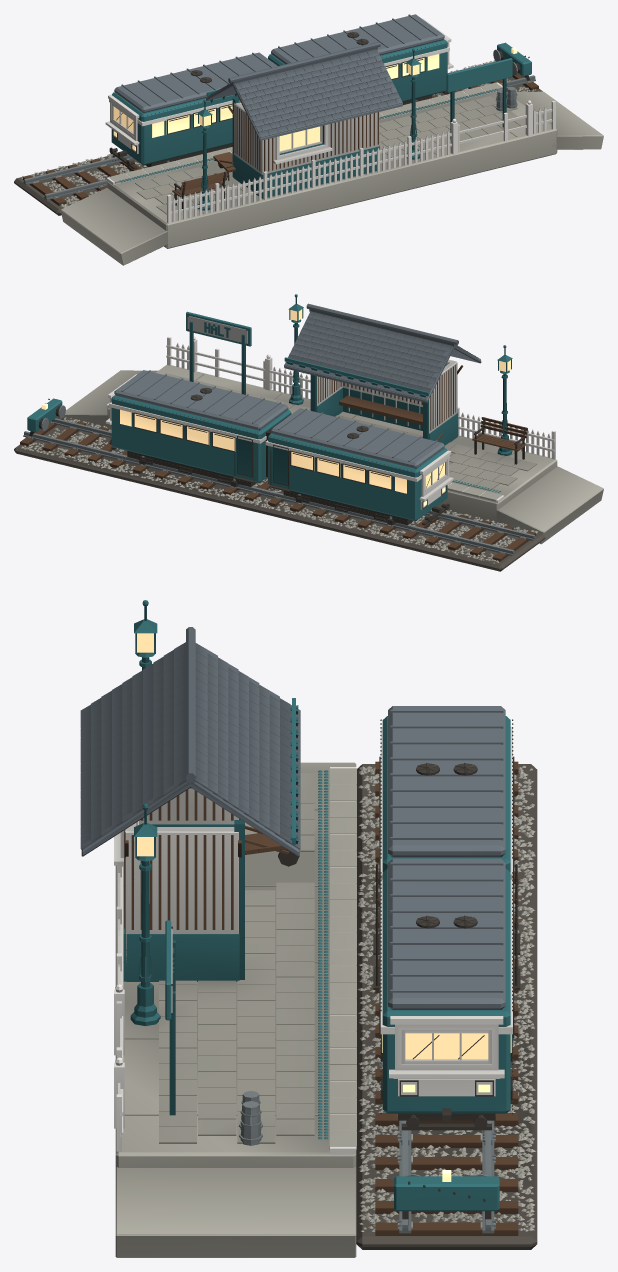
The model's file is village-halt-near.glb.
The picture shows the model from 3 angles, top to bottom: view 1: azimuth 30°, elevation 25°; view 2: azimuth 150°, elevation 25°; view 3: azimuth 270°, elevation 25°; orthographic projection. The views are drawn at different scales.
Parts seen in each view (by area): view 1: Halt1Near, Halt2Near; view 2: Halt1Near, Halt2Near; view 3: Halt1Near, Halt2Near.
Part boxes in pixels (x1=…): Halt1Near: x1=14, y1=41, x2=603, y2=265; Halt2Near: x1=34, y1=14, x2=535, y2=206; Halt1Near: x1=14, y1=294, x2=603, y2=571; Halt2Near: x1=24, y1=330, x2=535, y2=560; Halt1Near: x1=80, y1=600, x2=537, y2=1257; Halt2Near: x1=357, y1=706, x2=535, y2=1231.
Size of the model in its own units: 15 by 4.2 by 6.06.
